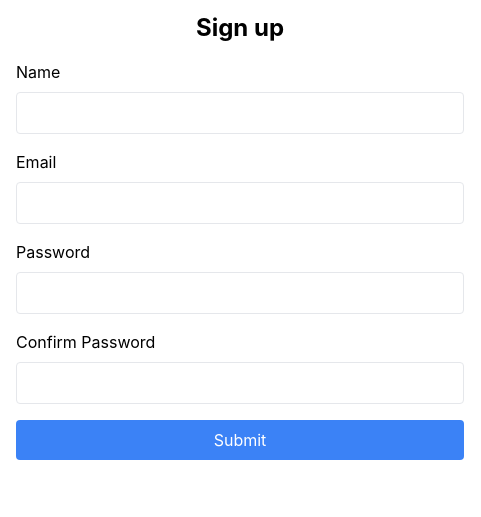
Test: RegisterPage › displays general error message on unknown error
The image size is (481, 517).
Type "John Doe" into the field labelled "Name" at [240, 113], box left=16, top=92, right=464, bottom=134
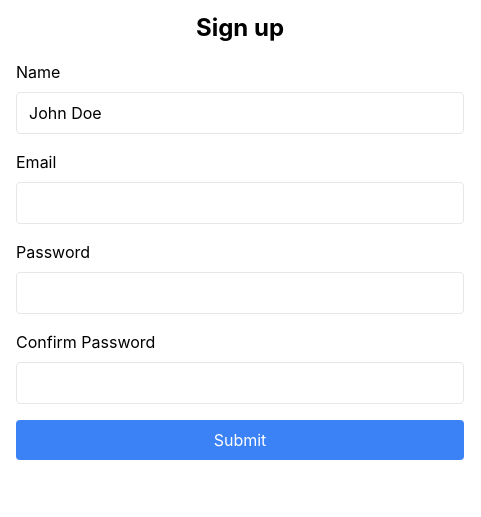
Type "john@example.com" into the field labelled "Email" at [240, 203], box left=16, top=182, right=464, bottom=224
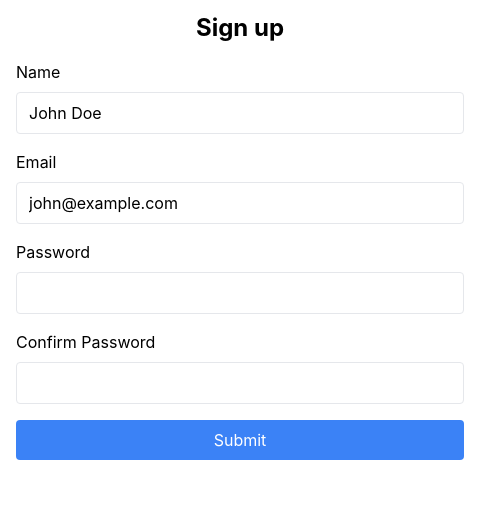
Type "password" into the password field labelled "Password" at [240, 293], box left=16, top=272, right=464, bottom=314
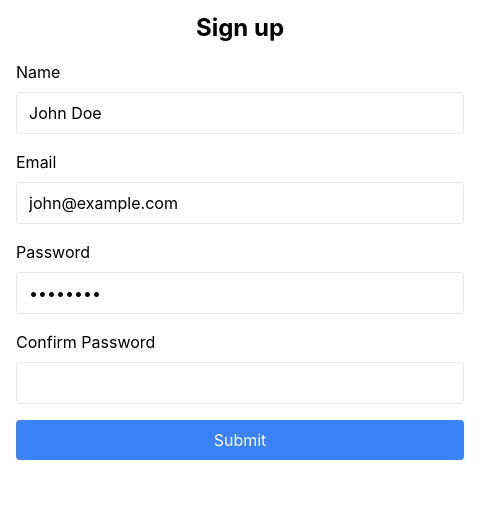
Type "password" into the password field labelled "Confirm Password" at [240, 383], box left=16, top=362, right=464, bottom=404
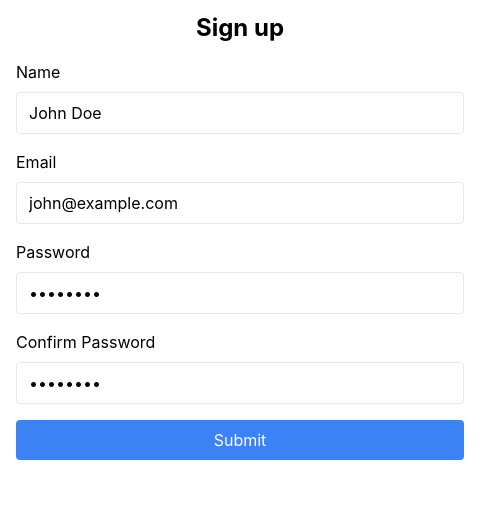
Click the button "Submit" at [240, 440], box left=16, top=420, right=464, bottom=460
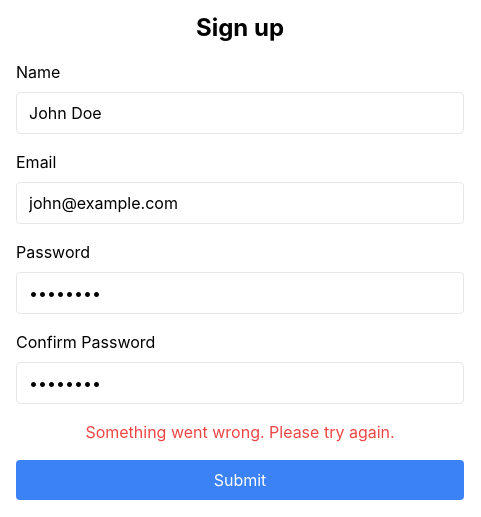
expect the text "Something went wrong. Please try again." is shown: met, box left=85, top=422, right=395, bottom=442
